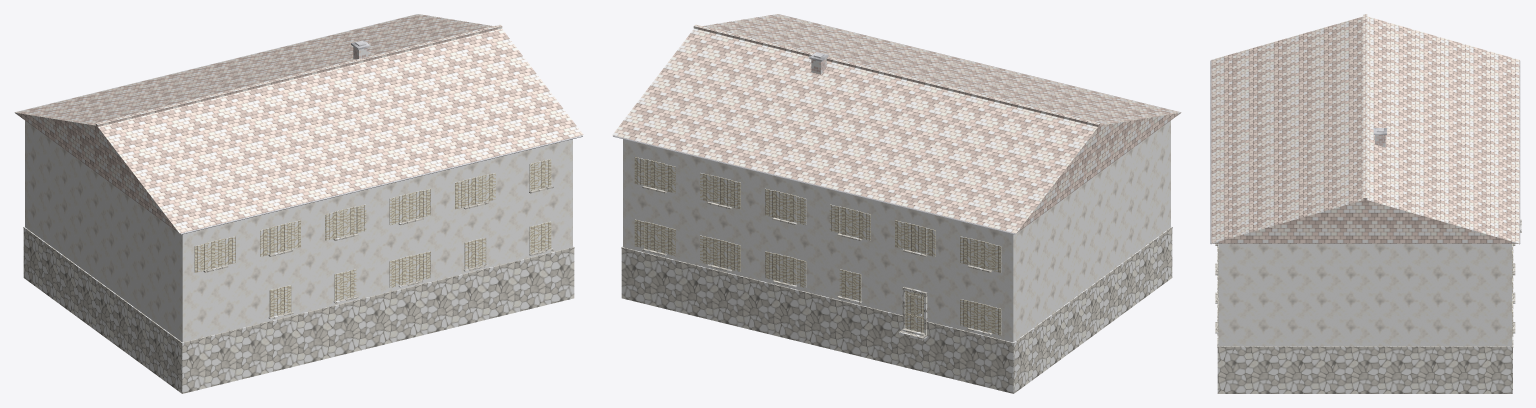
3 views of the same model, side by side, from view 1: azimuth 30°, elevation 25°; view 2: azimuth 150°, elevation 25°; view 3: azimuth 270°, elevation 25° (orthographic). The views are drawn at different scales.
Parts seen in each view (by area): view 1: b1084716809; view 2: b1084716809; view 3: b1084716809.
Part boxes in pixels (left/top/right/bottom): b1084716809: left=14, top=14, right=583, bottom=393; b1084716809: left=612, top=14, right=1181, bottom=393; b1084716809: left=1210, top=14, right=1521, bottom=393.
Bounding box in the file's own units: 20.96 × 10.99 × 14.98.
18 materials, 18 textured.
